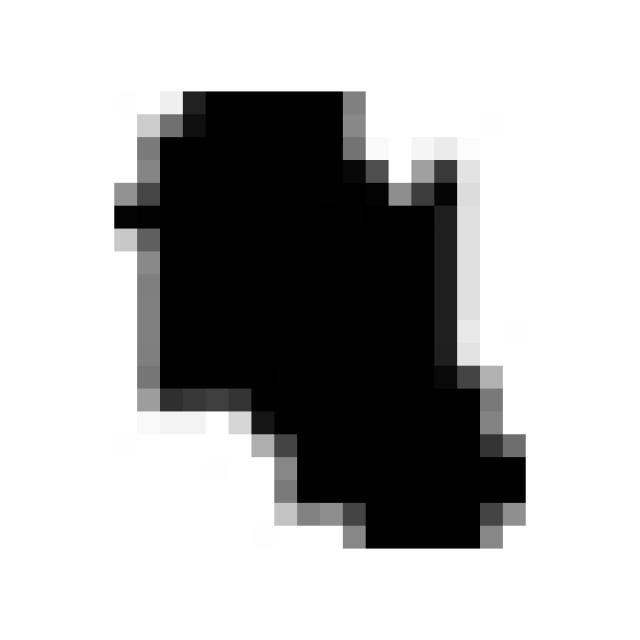0 -zero-: (99, 73, 546, 568)
